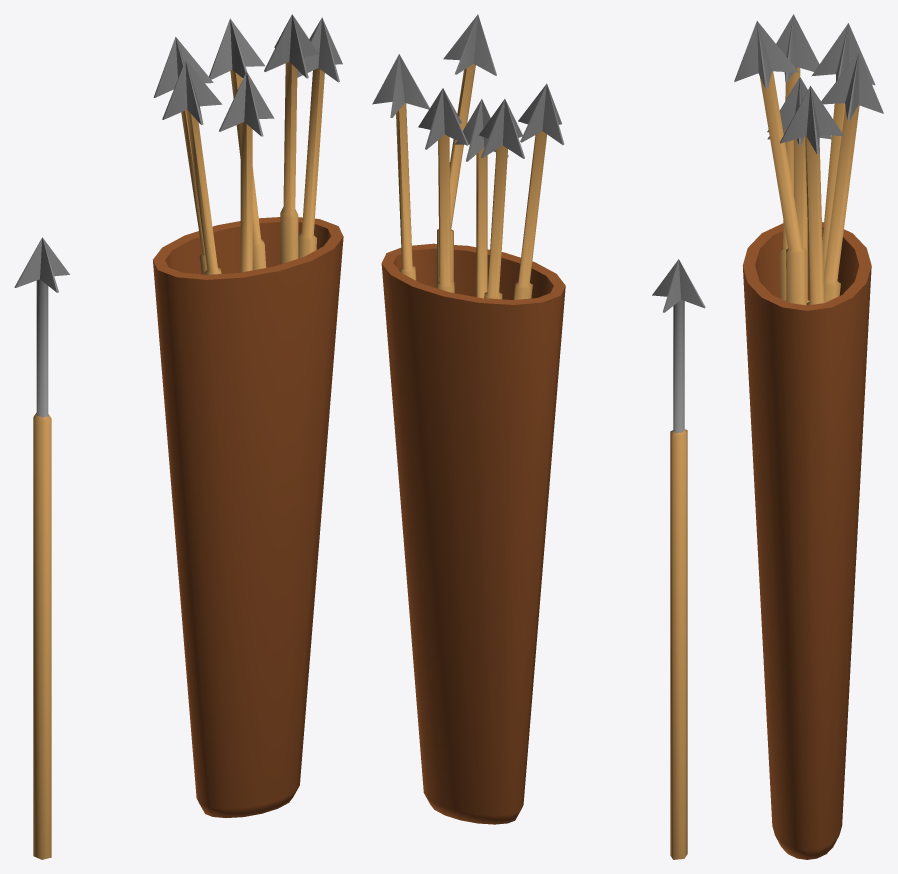
File: Dart.fbx
3 views of the same model, side by side, from view 1: azimuth 30°, elevation 25°; view 2: azimuth 150°, elevation 25°; view 3: azimuth 270°, elevation 25° (orthographic). The views are drawn at different scales.
Visible parts, largest first — view 1: Dart_Quiver, Dart; view 2: Dart_Quiver, Dart; view 3: Dart_Quiver.
Part boxes in pixels (bbox=[...]): Dart_Quiver: bbox=[153, 14, 343, 817]; Dart: bbox=[14, 237, 69, 859]; Dart_Quiver: bbox=[372, 14, 565, 824]; Dart: bbox=[652, 259, 705, 859]; Dart_Quiver: bbox=[734, 14, 883, 859].
Size of the model in its own units: 72.22 by 166 by 27.
